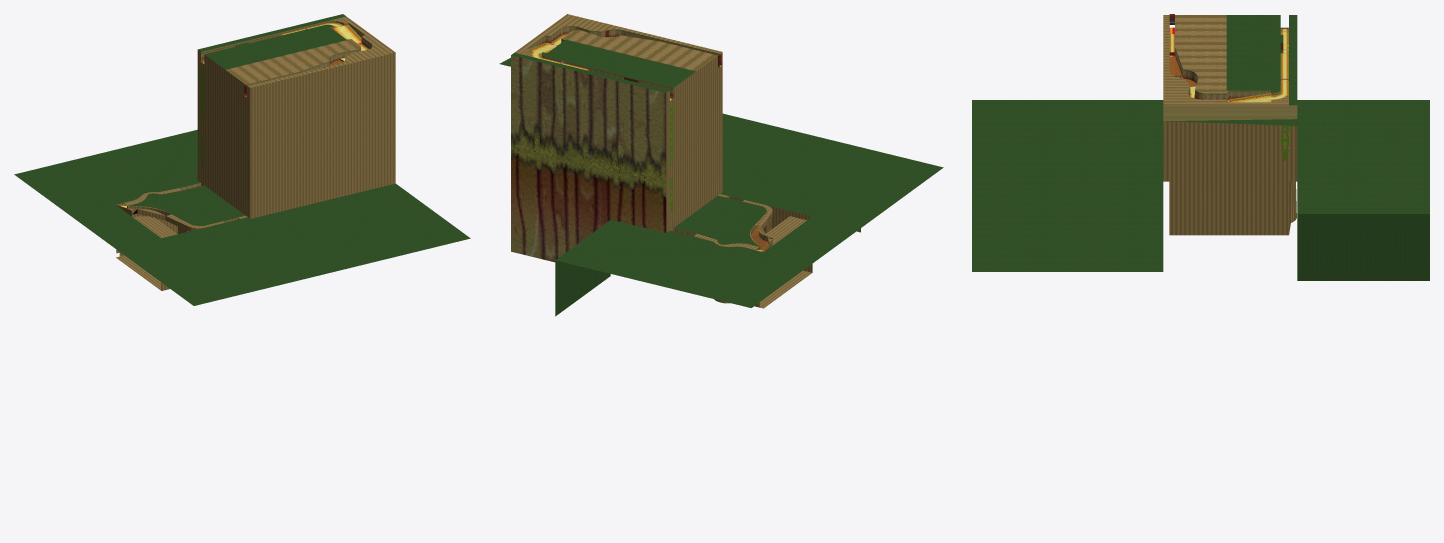
3 views of the same model, side by side, from view 1: azimuth 30°, elevation 25°; view 2: azimuth 150°, elevation 25°; view 3: azimuth 270°, elevation 25° (orthographic). The views are drawn at different scales.
Visible parts, largest first — view 1: c172DCWCoursemodel-SKP--AnotherFall, c172DCWCoursemodel-SKP--002C, c172DCWCoursemodel-SKP--002C_2; view 2: c172DCWCoursemodel-SKP--AnotherFall, c172DCWCoursemodel-SKP--002C_2, c172DCWCoursemodel-SKP--002C, c172DCWCoursemodel-SKP--0083; view 3: c172DCWCoursemodel-SKP--AnotherFall, c172DCWCoursemodel-SKP--002C, c172DCWCoursemodel-SKP--0083, c172DCWCoursemodel-SKP--002C_2, c172DCWCoursemodel-SKP--0096.
Boxes of the visible parts, <box> form: c172DCWCoursemodel-SKP--AnotherFall: <box>14,14,470,305</box>; c172DCWCoursemodel-SKP--002C: <box>116,16,395,290</box>; c172DCWCoursemodel-SKP--002C_2: <box>179,20,372,190</box>; c172DCWCoursemodel-SKP--AnotherFall: <box>499,39,943,307</box>; c172DCWCoursemodel-SKP--002C_2: <box>511,26,719,262</box>; c172DCWCoursemodel-SKP--002C: <box>515,14,860,308</box>; c172DCWCoursemodel-SKP--0083: <box>555,260,610,316</box>; c172DCWCoursemodel-SKP--AnotherFall: <box>972,15,1429,271</box>; c172DCWCoursemodel-SKP--002C: <box>1163,15,1297,235</box>; c172DCWCoursemodel-SKP--0083: <box>1281,50,1429,280</box>; c172DCWCoursemodel-SKP--002C_2: <box>1163,48,1297,121</box>; c172DCWCoursemodel-SKP--0096: <box>1169,29,1288,102</box>.
Bounding box in the file's own units: 191201 × 272847 × 206717.
Materials: 21 (21 with a texture image).
